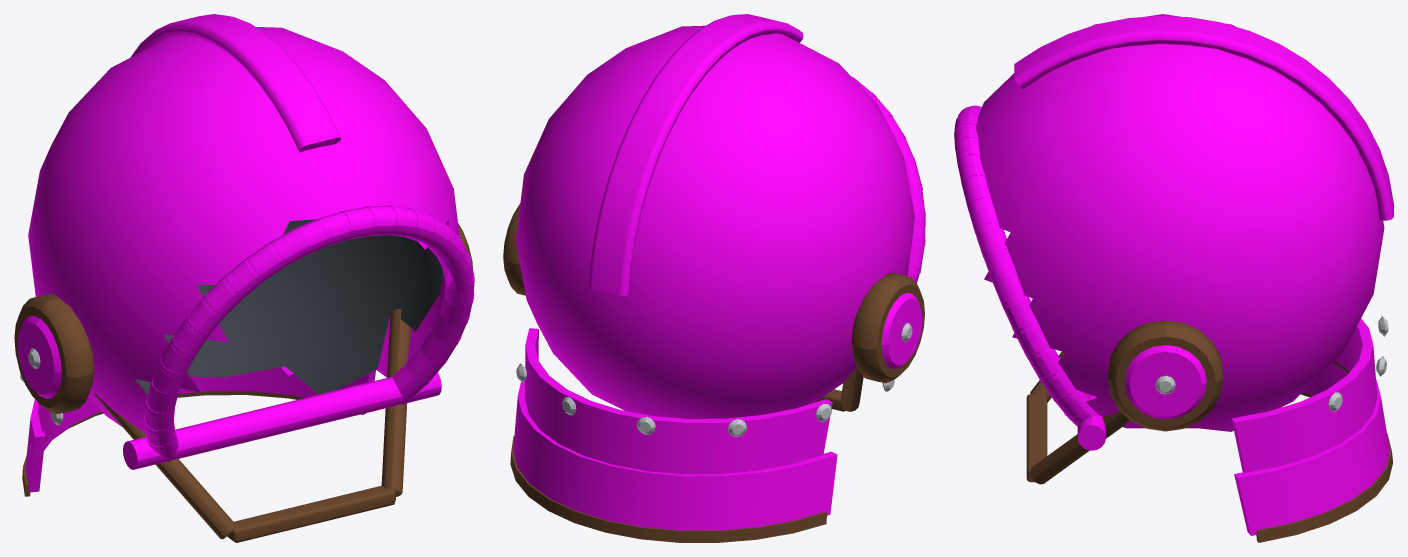
The model's file is porte_armure1_casque.glb.
3 views of the same model, side by side, from view 1: azimuth 30°, elevation 25°; view 2: azimuth 150°, elevation 25°; view 3: azimuth 270°, elevation 25° (orthographic). The views are drawn at different scales.
Visible parts, largest first — view 1: tete__casque_teinte.006, tete__casque_teinte_sombre.006, tete__casque_sac_cuir.002; view 2: tete__casque_teinte.006, tete__casque_sac_cuir.002, tete__casque_rivet.004; view 3: tete__casque_teinte.006, tete__casque_sac_cuir.002, tete__casque_rivet.004.
Part boxes in pixels (<box>): tete__casque_teinte.006: <box>17,14,474,492</box>; tete__casque_teinte_sombre.006: <box>135,219,443,394</box>; tete__casque_sac_cuir.002: <box>14,223,473,542</box>; tete__casque_teinte.006: <box>513,14,925,530</box>; tete__casque_sac_cuir.002: <box>503,203,924,542</box>; tete__casque_rivet.004: <box>516,323,912,436</box>; tete__casque_teinte.006: <box>954,14,1393,535</box>; tete__casque_sac_cuir.002: <box>1026,320,1393,542</box>; tete__casque_rivet.004: <box>1155,316,1388,411</box>.
Bounding box in the file's own units: 0.368 × 0.377 × 0.3416.
